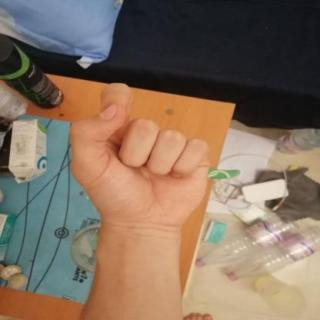FAA: (56, 76, 218, 236)
